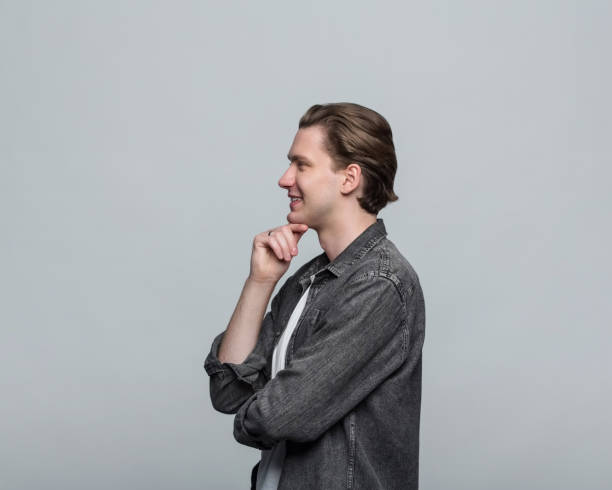Male: (193, 101, 440, 489)
